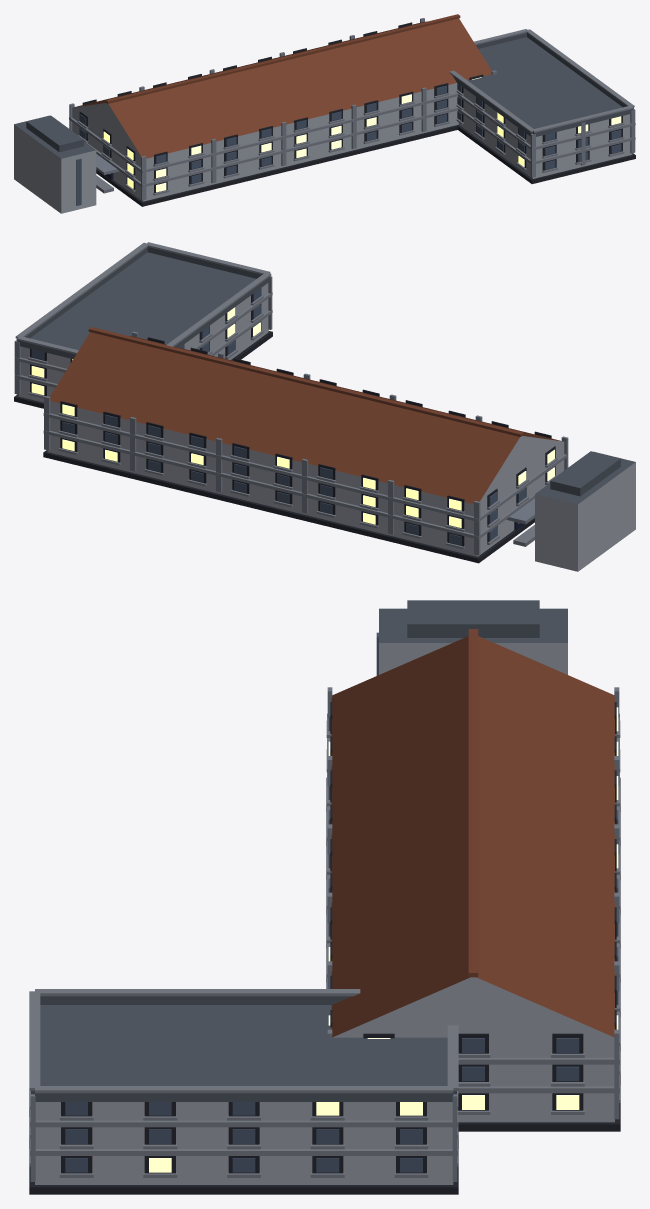
Rendered from apj-high.glb.
3 views of the same model, one above another, from view 1: azimuth 30°, elevation 25°; view 2: azimuth 150°, elevation 25°; view 3: azimuth 270°, elevation 25° (orthographic). The views are drawn at different scales.
Bounding box in the file's own units: 167 × 25.73 × 87.6.
